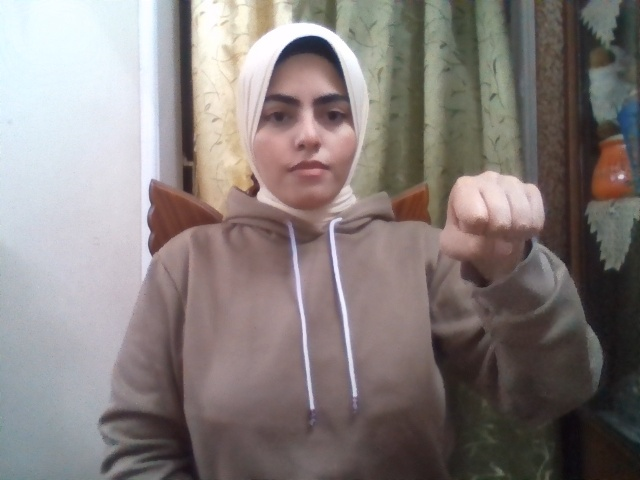yes: (437, 171, 546, 260)
